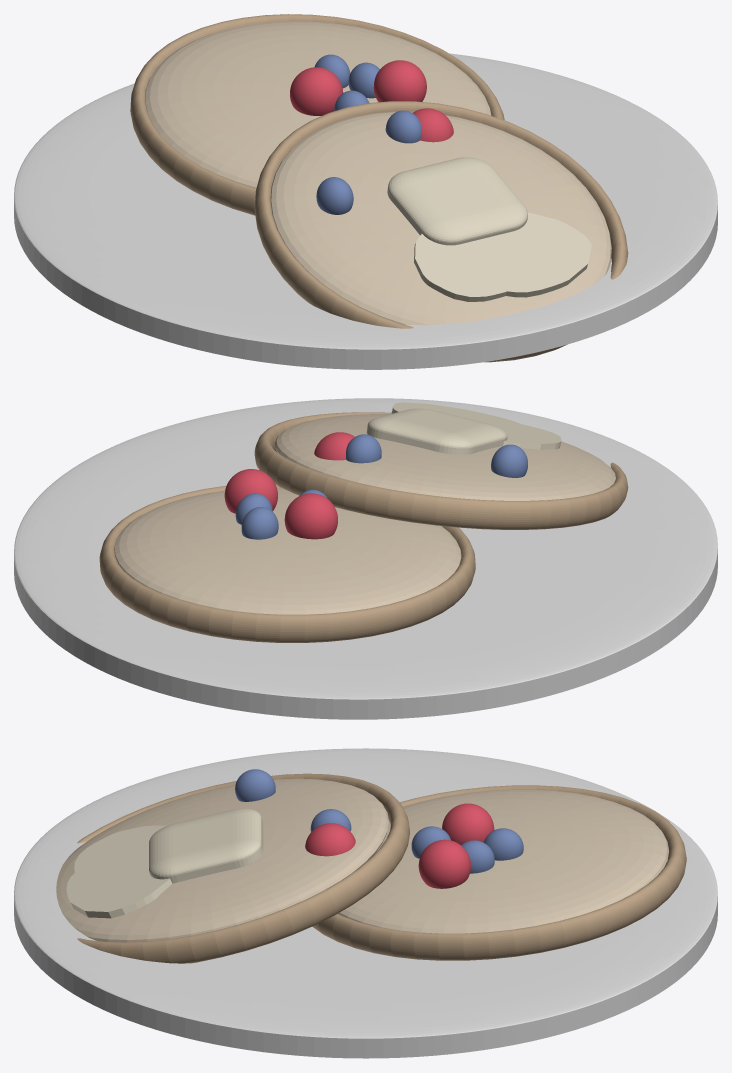
Rendered from Stella - Pancakes.glb.
3 views of the same model, one above another, from view 1: azimuth 30°, elevation 25°; view 2: azimuth 150°, elevation 25°; view 3: azimuth 270°, elevation 25° (orthographic).
Visible parts, largest first — view 1: Mesh_Mesh_head_geo.001_lambert2SG.001; view 2: Mesh_Mesh_head_geo.001_lambert2SG.001; view 3: Mesh_Mesh_head_geo.001_lambert2SG.001.
Boxes of the visible parts, x1,y1,x2,y2 form: Mesh_Mesh_head_geo.001_lambert2SG.001: (14,14,717,369); Mesh_Mesh_head_geo.001_lambert2SG.001: (14,398,717,719); Mesh_Mesh_head_geo.001_lambert2SG.001: (14,748,717,1058).
Size of the model in its own units: 0.118 by 0.024 by 0.121.
